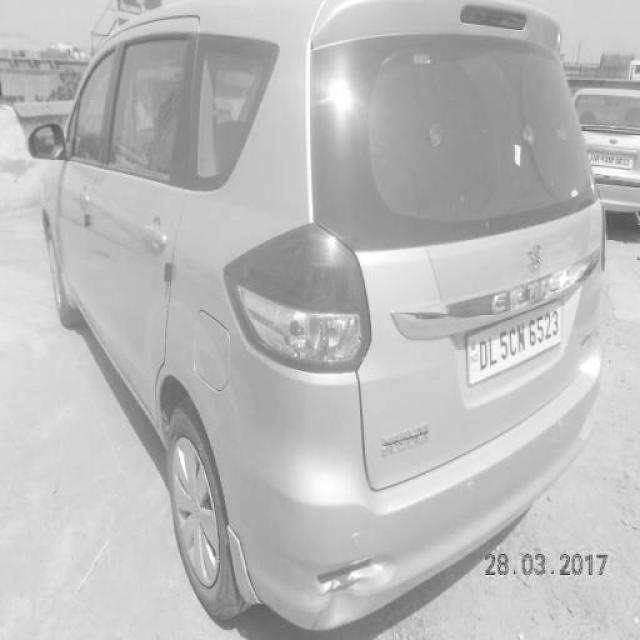car damage: (309, 581, 364, 634)
